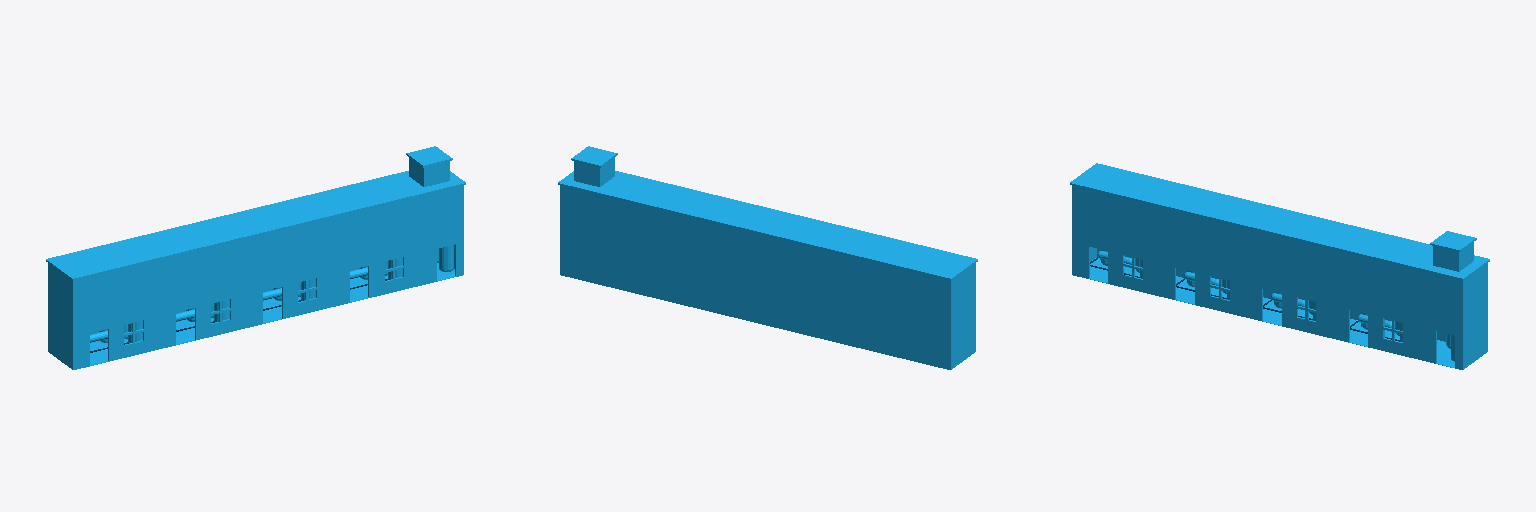
Rendered from shenjingbeng-all.obj.
3 renders of one model, left to right at view 1: azimuth 30°, elevation 25°; view 2: azimuth 150°, elevation 25°; view 3: azimuth 330°, elevation 25°, orthographic.
Parts seen in each view (by area): view 1: house, equipment; view 2: house; view 3: house, equipment.
Boxes of the visible parts, x1,y1,x2,y2 form: house: [46, 146, 465, 369]; equipment: [90, 245, 453, 342]; house: [558, 146, 977, 369]; house: [1070, 163, 1489, 369]; equipment: [1097, 249, 1454, 361].
Size of the model in its own units: 454 by 127 by 54.